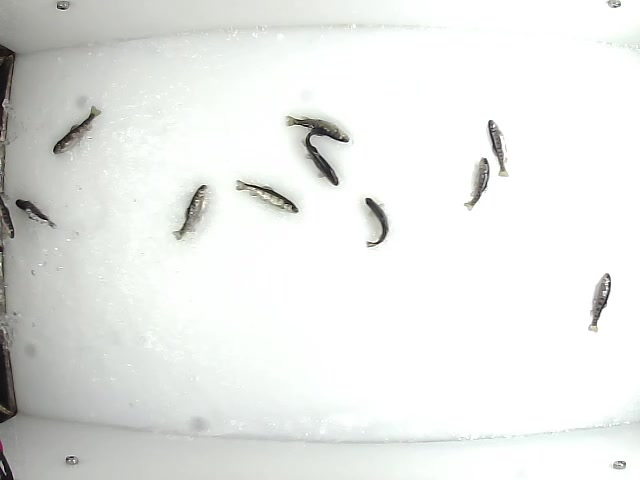fish: (49, 104, 102, 155), (301, 125, 341, 187), (234, 178, 299, 214), (170, 180, 208, 241), (282, 112, 352, 144), (362, 195, 396, 250), (463, 155, 493, 212), (586, 272, 612, 333), (484, 119, 509, 179), (13, 196, 56, 230)
